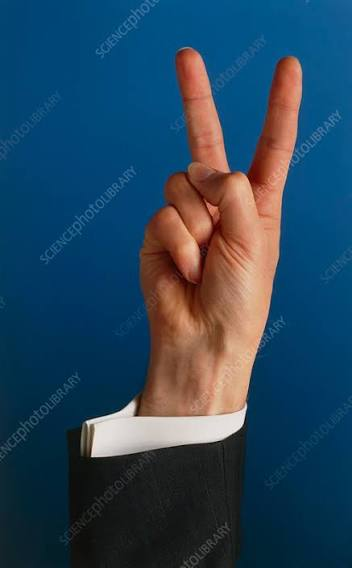peace_sign: (134, 38, 304, 362)
